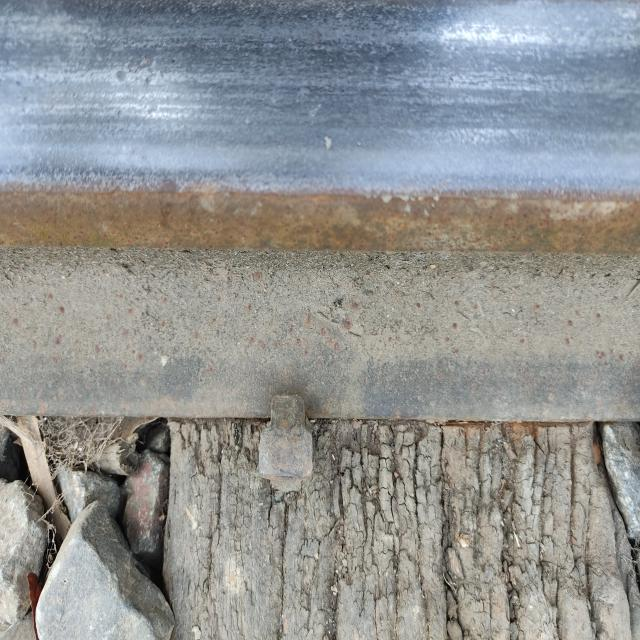Good Fasteners: (258, 395, 313, 492)
